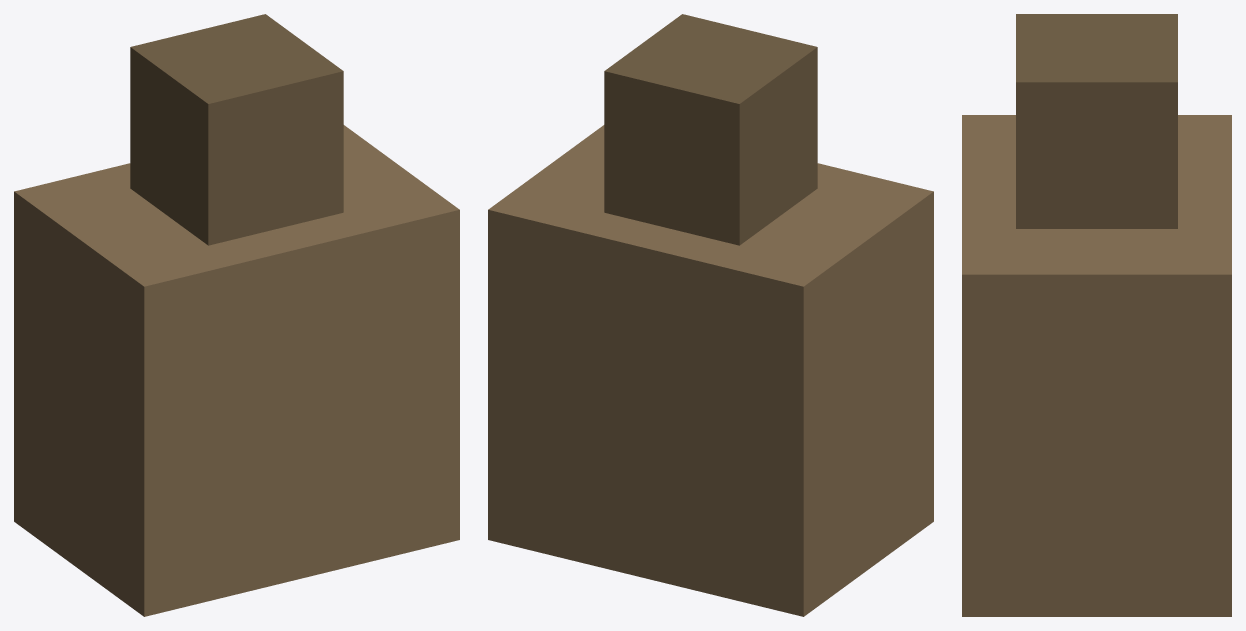
File: instrumento_musical_roble_grande_01.glb
The picture shows the model from 3 angles, left to right: view 1: azimuth 30°, elevation 25°; view 2: azimuth 150°, elevation 25°; view 3: azimuth 270°, elevation 25°; orthographic projection. The views are drawn at different scales.
Parts seen in each view (by area): view 1: instrumento_musical_roble_grande; view 2: instrumento_musical_roble_grande; view 3: instrumento_musical_roble_grande.
Boxes of the visible parts, left/top/right/bottom form: instrumento_musical_roble_grande: left=14, top=14, right=459, bottom=616; instrumento_musical_roble_grande: left=488, top=14, right=933, bottom=616; instrumento_musical_roble_grande: left=962, top=14, right=1231, bottom=616.
Size of the model in its own units: 0.5 by 0.7143 by 0.3571.
